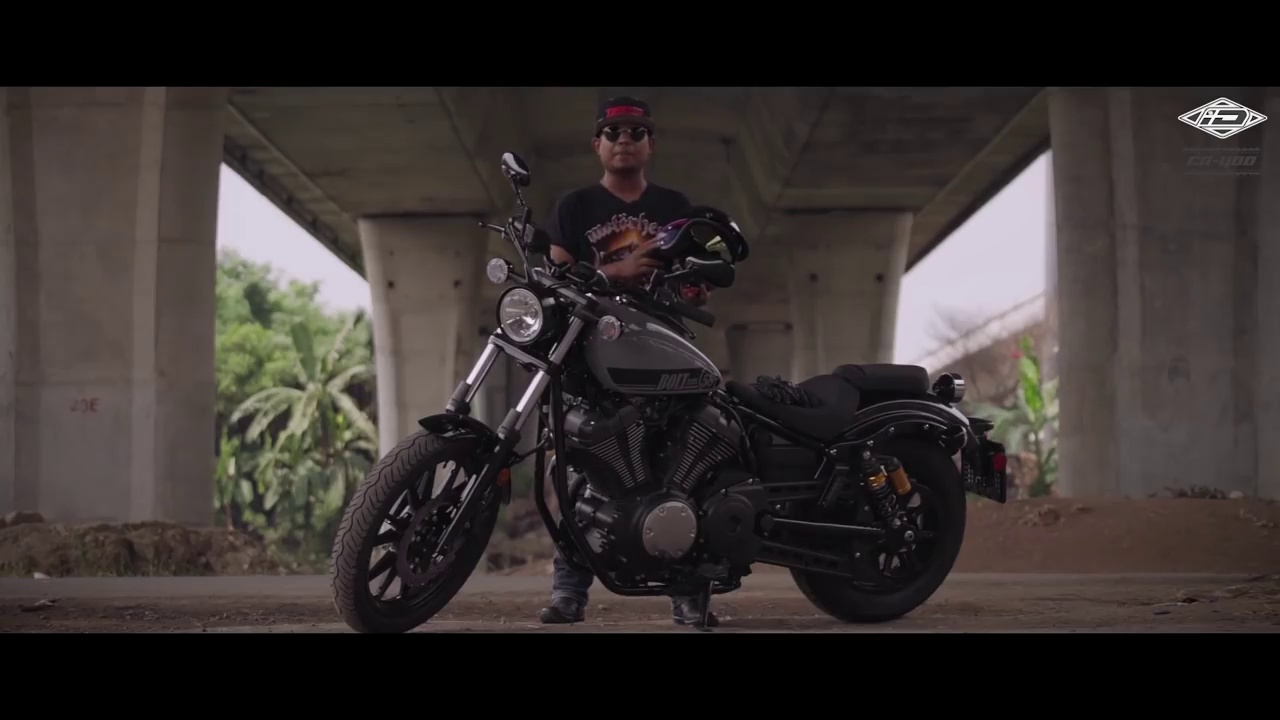helmet: (650, 198, 750, 263)
